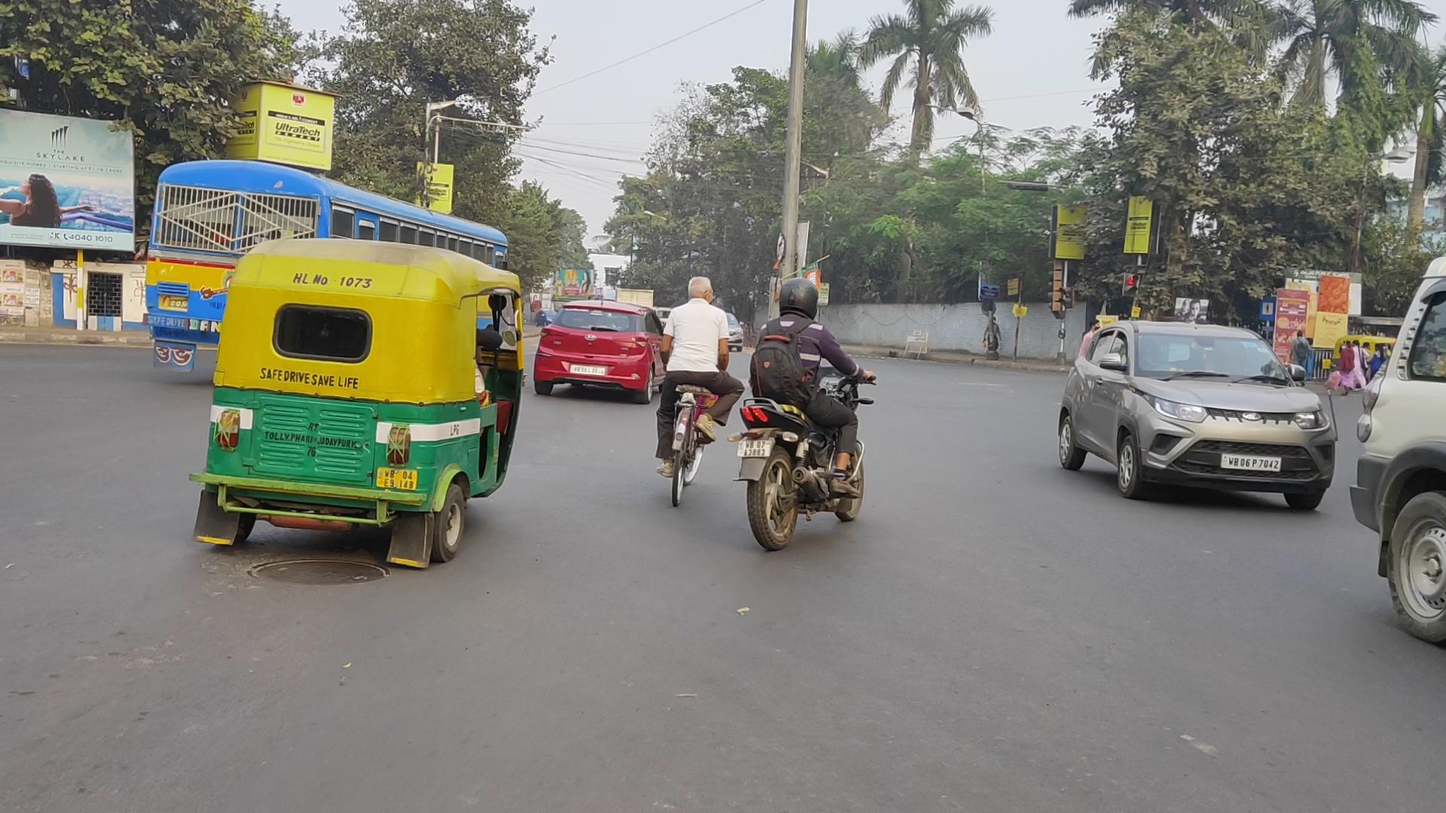Auto: (187, 239, 529, 571)
Bus: (144, 160, 509, 390)
bike: (729, 277, 878, 553), (652, 275, 745, 507)
car: (1059, 318, 1338, 513), (533, 299, 673, 405)
